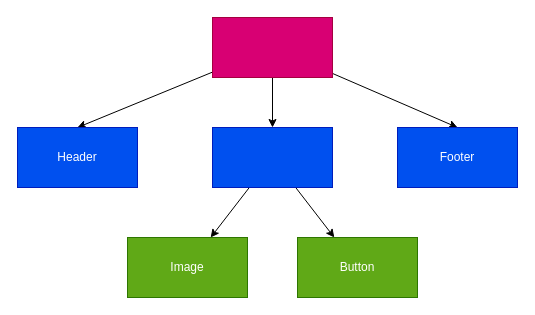
The diagram is 535 pixels wide and 315 high, and some of its shapes have lost their labels. Each missing label, with the centre of its shape:
"App" belongs at pixel 272 47.
"Content" belongs at pixel 272 157.
